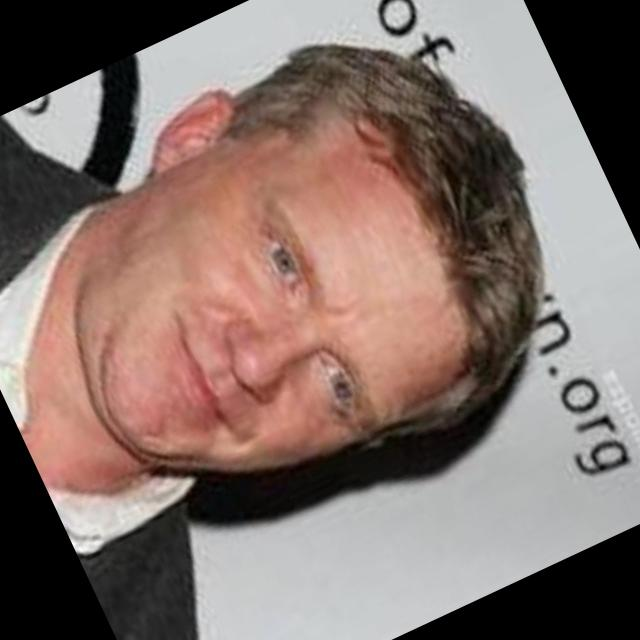bareface: (3, 0, 601, 526)
